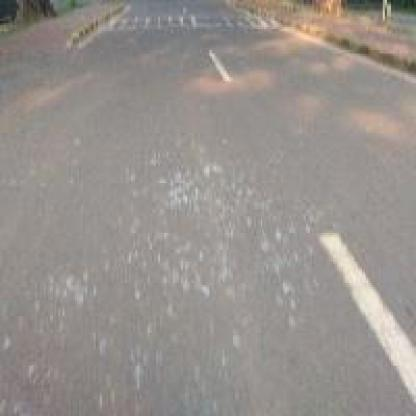Speed Bump: (108, 13, 289, 31)
